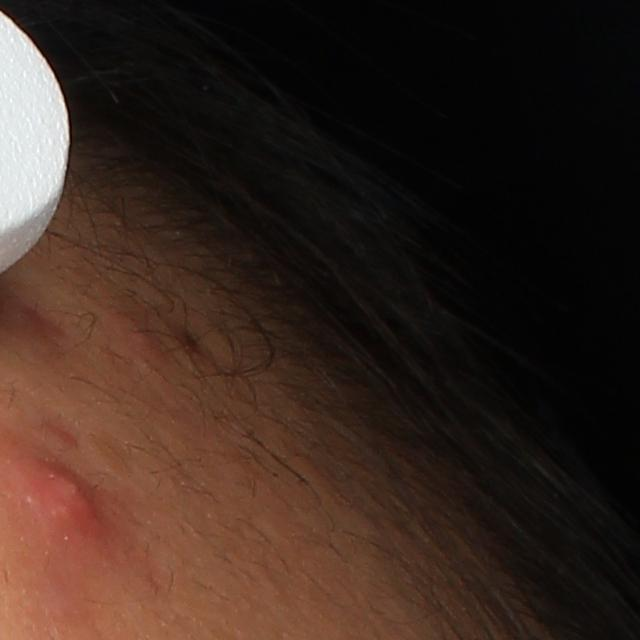papule: (17, 455, 110, 541)
